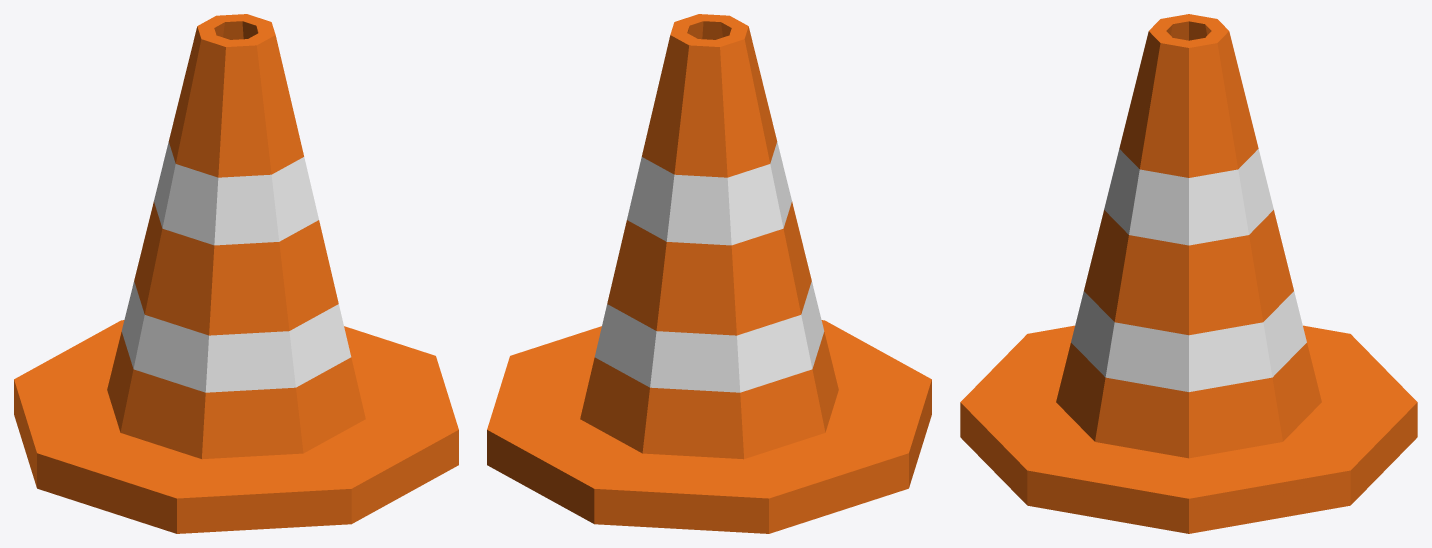
File: vlc.gltf
The picture shows the model from 3 angles, left to right: view 1: azimuth 30°, elevation 25°; view 2: azimuth 150°, elevation 25°; view 3: azimuth 270°, elevation 25°; orthographic projection.
Parts seen in each view (by area): view 1: Circle.024; view 2: Circle.024; view 3: Circle.024.
Part boxes in pixels (x1,y1,x2,y2): Circle.024: (14,14,458,533); Circle.024: (487,14,931,533); Circle.024: (960,14,1417,533).
Size of the model in its own units: 193 by 190 by 193.
